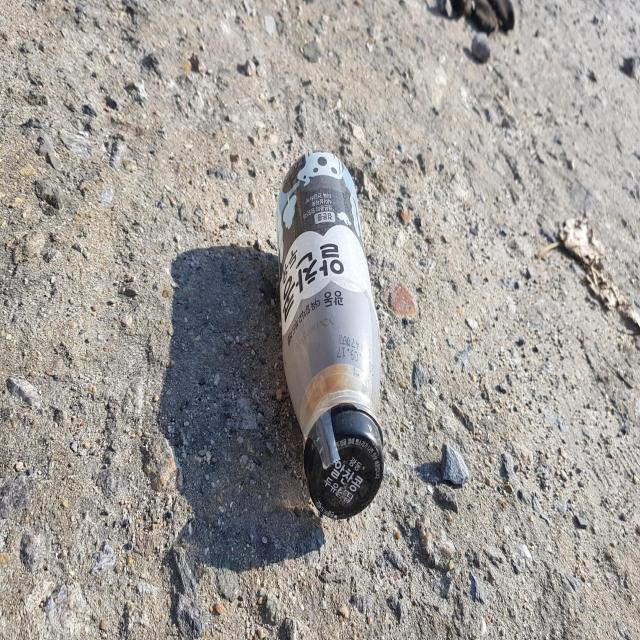glass: (276, 151, 384, 519)
